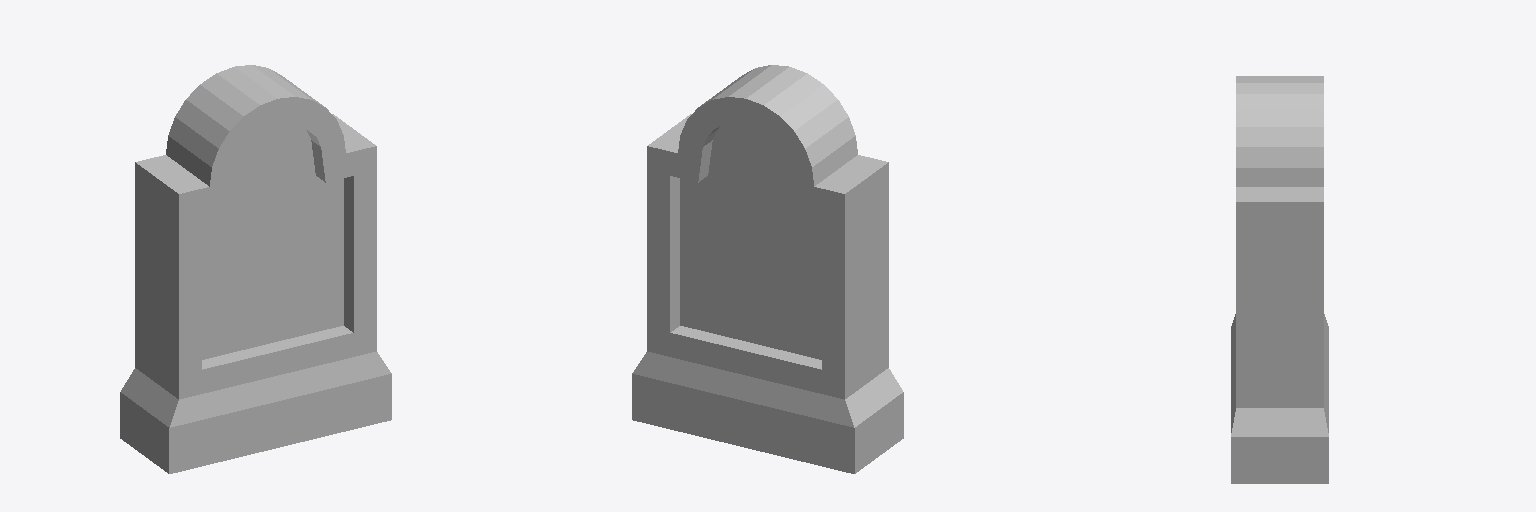
File: gravestoneBevel.obj
3 renders of one model, left to right at view 1: azimuth 30°, elevation 25°; view 2: azimuth 150°, elevation 25°; view 3: azimuth 270°, elevation 25°, orthographic.
Parts seen in each view (by area): view 1: gravestoneBevel; view 2: gravestoneBevel; view 3: gravestoneBevel.
Part boxes in pixels (bbox=[...]): gravestoneBevel: bbox=[120, 65, 391, 473]; gravestoneBevel: bbox=[632, 65, 903, 473]; gravestoneBevel: bbox=[1231, 76, 1328, 483].
Bounding box in the file's own units: 3.9 × 5.81 × 1.5.